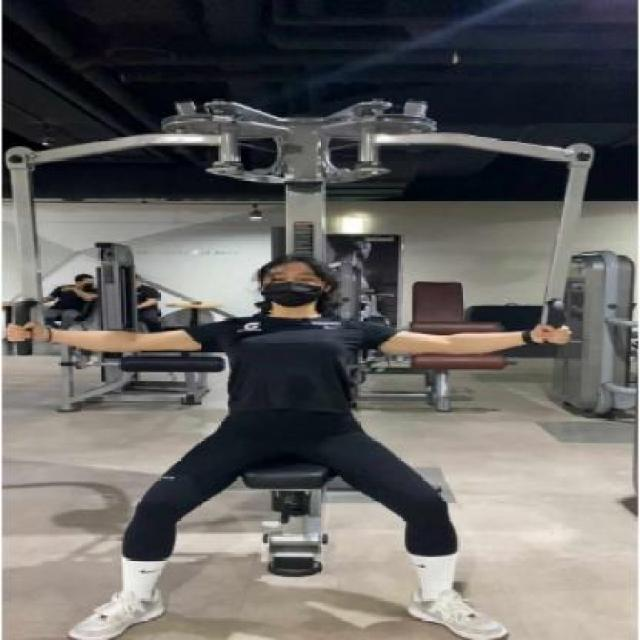chest fly machine: (3, 69, 640, 640)
